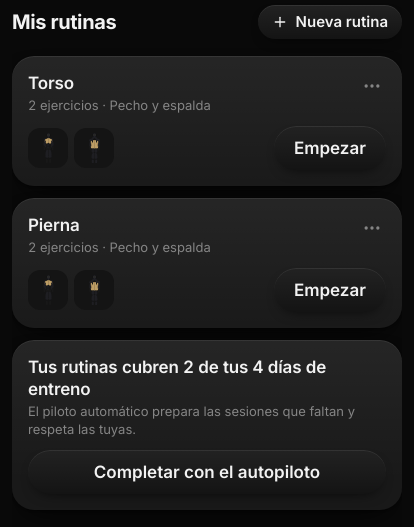
Test: Mis rutinas › «Completar con el autopiloto»: fila secundaria con lo que cubren tus rutinas, el AP mientras trabaja y «Hemos respetado tus N rutinas»
Later steps or results of the test are not shown.
Expected: the text "Tus rutinas cubren 2 de tus 4 días de entreno" is shown, [28,357,326,399]
What coordinates should you click on to do the following:
click the button "Completar con el autopiloto"
I would click on:
 (207, 472)
Its box is [28,450,386,494].
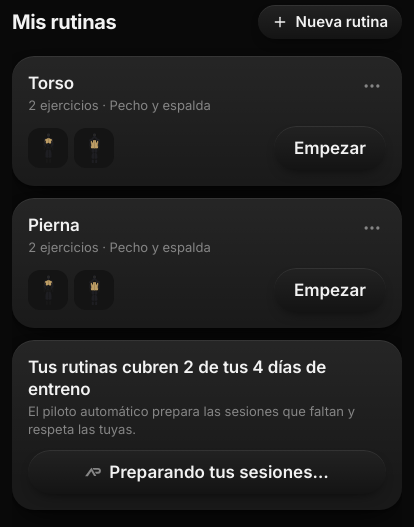
Now the button "Preparando tus sesiones…" has attribute aria-busy="true", box [28,450,386,494]
